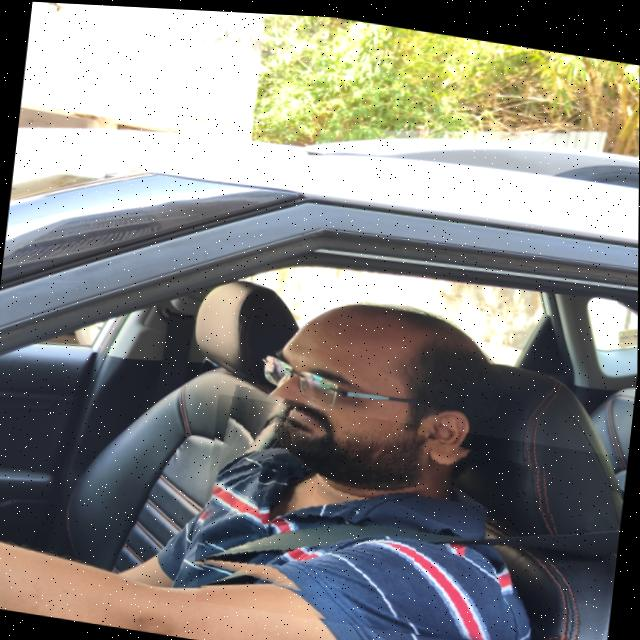seatbelt: (195, 390, 629, 640)
